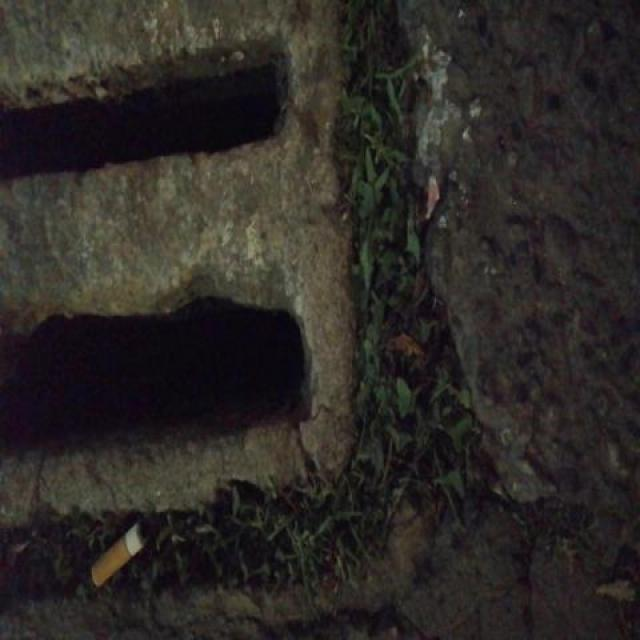non-organic waste: (87, 516, 150, 592)
